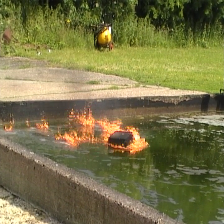fire_h: (55, 104, 149, 155)
fire_l: (35, 116, 48, 129), (4, 118, 14, 132), (24, 119, 30, 127)
